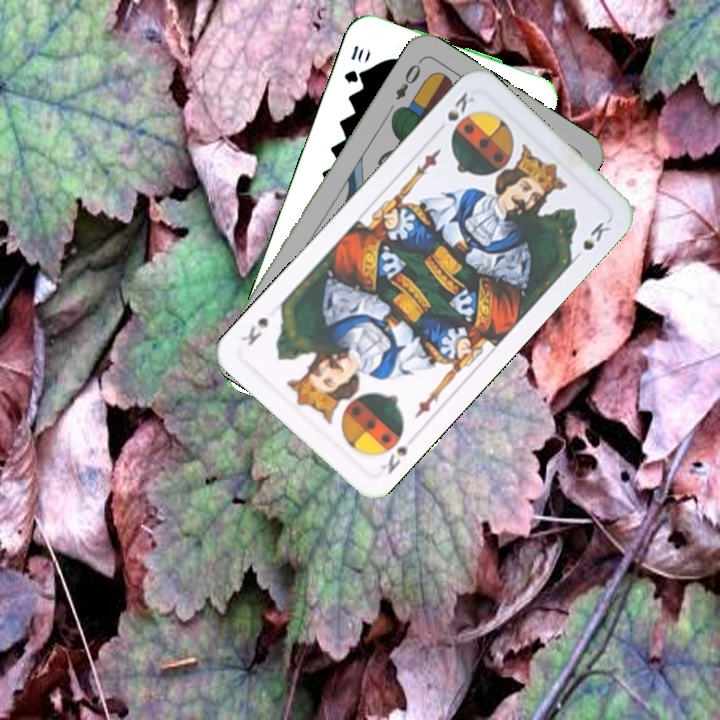EO: (391, 55, 424, 103)
G10: (340, 41, 368, 86)
SK: (432, 87, 477, 138), (376, 442, 411, 477)
